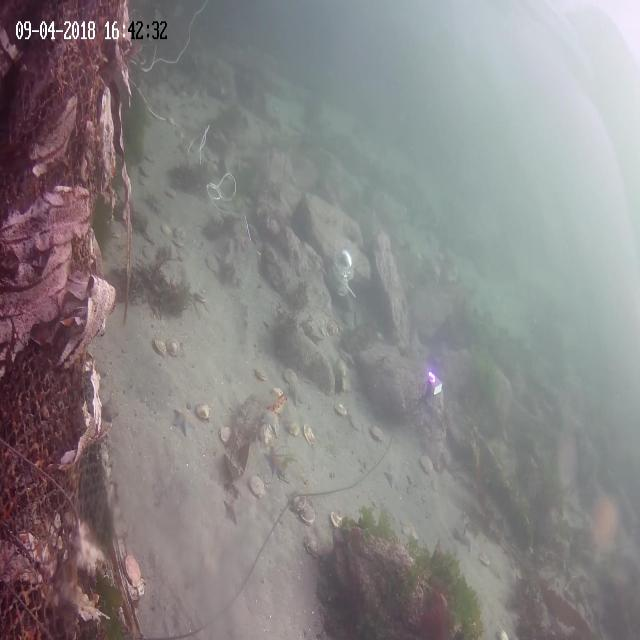scallop: (302, 533, 326, 563), (124, 552, 144, 587), (256, 422, 276, 452), (248, 472, 268, 500), (290, 492, 308, 520), (194, 401, 212, 427), (206, 249, 222, 278), (331, 504, 346, 534), (418, 451, 435, 477), (368, 422, 386, 444), (300, 503, 316, 527), (286, 415, 300, 441), (221, 420, 234, 446), (166, 334, 179, 358), (151, 336, 165, 358), (334, 400, 349, 420), (304, 422, 316, 446), (282, 364, 298, 382), (172, 230, 186, 250), (478, 550, 492, 569), (254, 364, 268, 382), (160, 219, 173, 238)
starfish: (584, 489, 622, 578), (223, 492, 241, 531), (100, 395, 120, 430), (172, 405, 190, 439), (383, 464, 402, 495), (230, 226, 248, 252), (461, 526, 475, 554), (403, 520, 418, 545)
